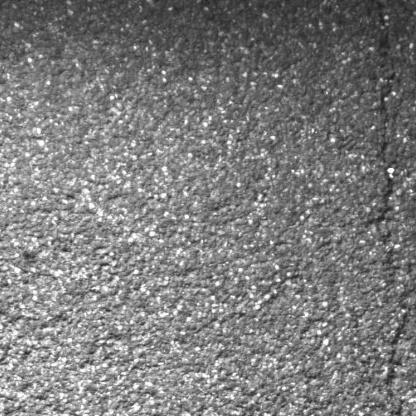Cracks: (375, 0, 408, 265), (383, 311, 412, 416)
